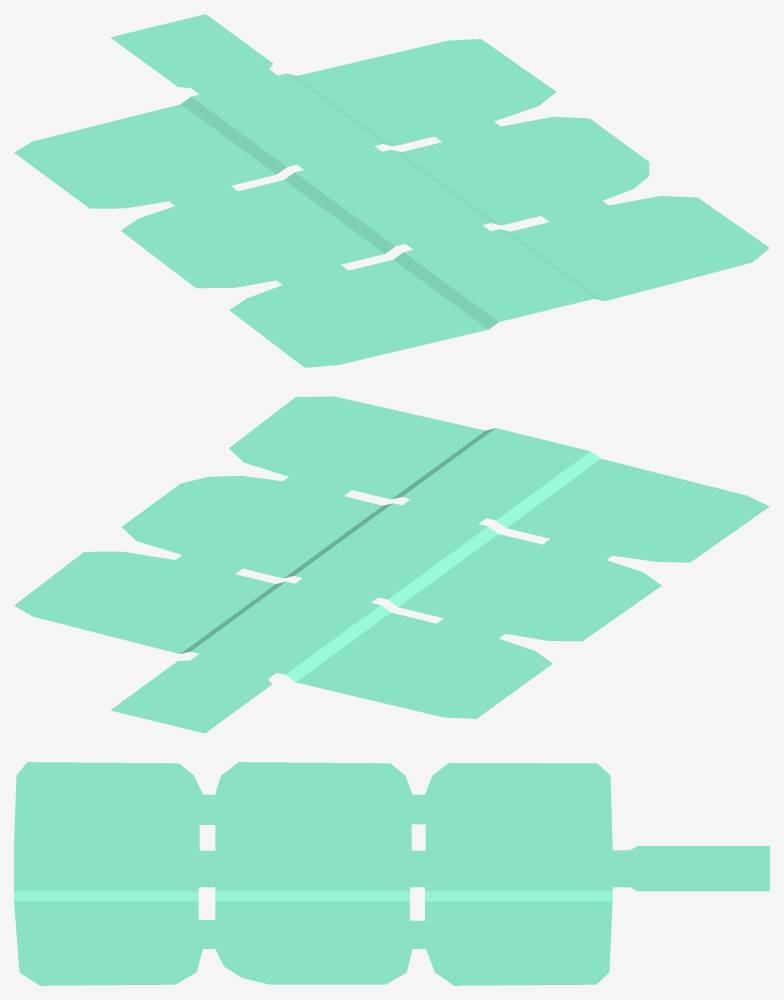
The model's file is S_Bsp_4301_readable.FBX.
3 renders of one model, top to bottom at view 1: azimuth 30°, elevation 25°; view 2: azimuth 150°, elevation 25°; view 3: azimuth 270°, elevation 25°, orthographic. The views are drawn at different scales.
Parts seen in each view (by area): view 1: S_Bsp_4301_readable; view 2: S_Bsp_4301_readable; view 3: S_Bsp_4301_readable.
Part boxes in pixels (box(x1,y1,x2,y2)): S_Bsp_4301_readable: box(14, 14, 769, 367); S_Bsp_4301_readable: box(14, 396, 769, 733); S_Bsp_4301_readable: box(14, 762, 769, 985).
Bounding box in the file's own units: 12729 × 131 × 18174.
